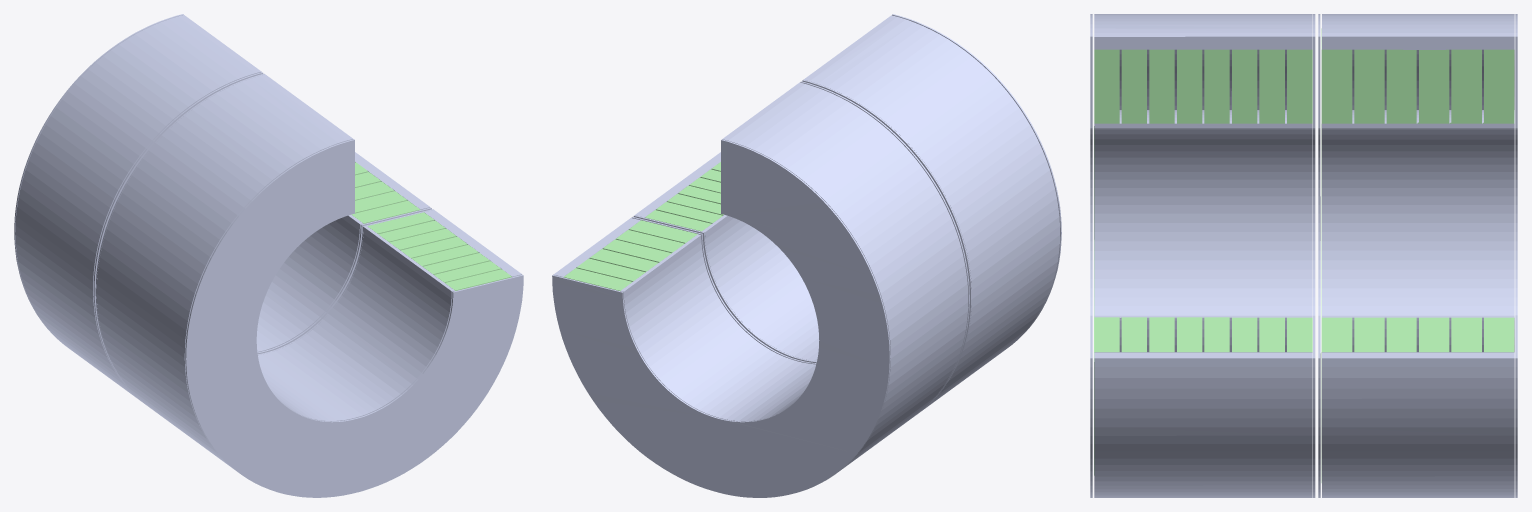
The model's file is TRT-SideA-cut4.glb.
3 views of the same model, side by side, from view 1: azimuth 30°, elevation 25°; view 2: azimuth 150°, elevation 25°; view 3: azimuth 270°, elevation 25° (orthographic). The views are drawn at different scales.
Visible parts, largest first — view 1: null; view 2: null; view 3: null.
Boxes of the visible parts, box(x1,y1,x2,y2) form: null: box(14, 14, 523, 497); null: box(552, 14, 1061, 497); null: box(1090, 14, 1517, 497).
Size of the model in its own units: 2.13 by 2.14 by 1.88.
